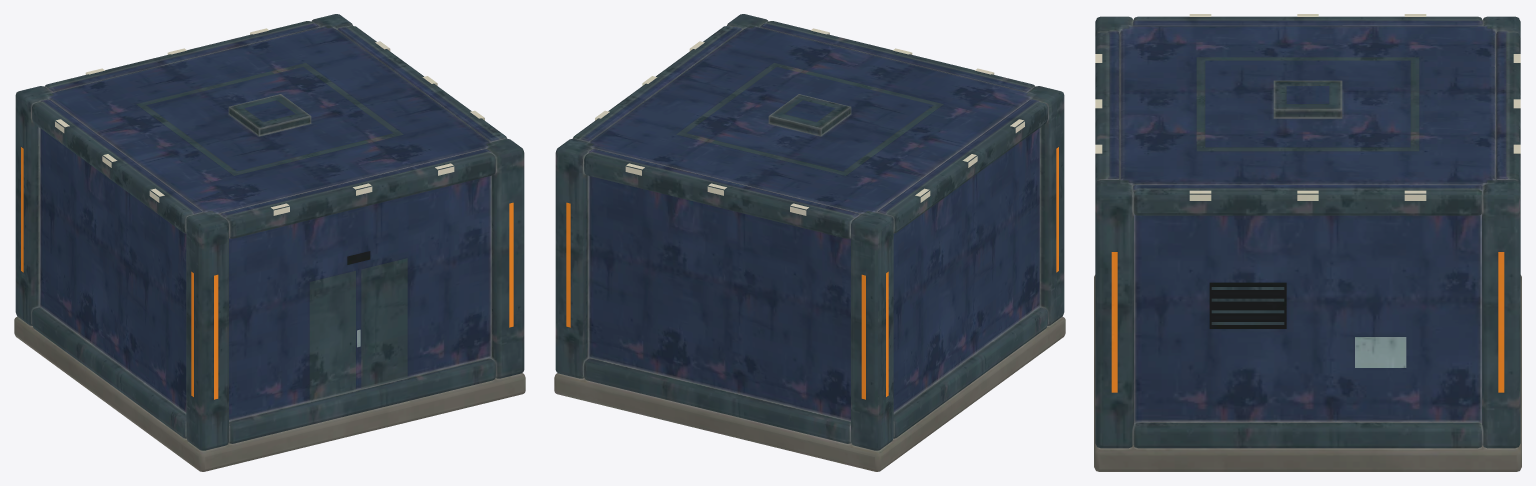
The model's file is hull_reinforced_closed.glb.
3 renders of one model, left to right at view 1: azimuth 30°, elevation 25°; view 2: azimuth 150°, elevation 25°; view 3: azimuth 270°, elevation 25°, orthographic. The views are drawn at different scales.
Visible parts, largest first — view 1: te_hull_reinforced_closed; view 2: te_hull_reinforced_closed; view 3: te_hull_reinforced_closed.
Part boxes in pixels (box(x1,y1,x2,y2)): te_hull_reinforced_closed: box(14, 14, 525, 471); te_hull_reinforced_closed: box(554, 14, 1065, 471); te_hull_reinforced_closed: box(1094, 14, 1521, 471).
Size of the model in its own units: 1 by 0.7446 by 1.
1 material, 1 textured.
